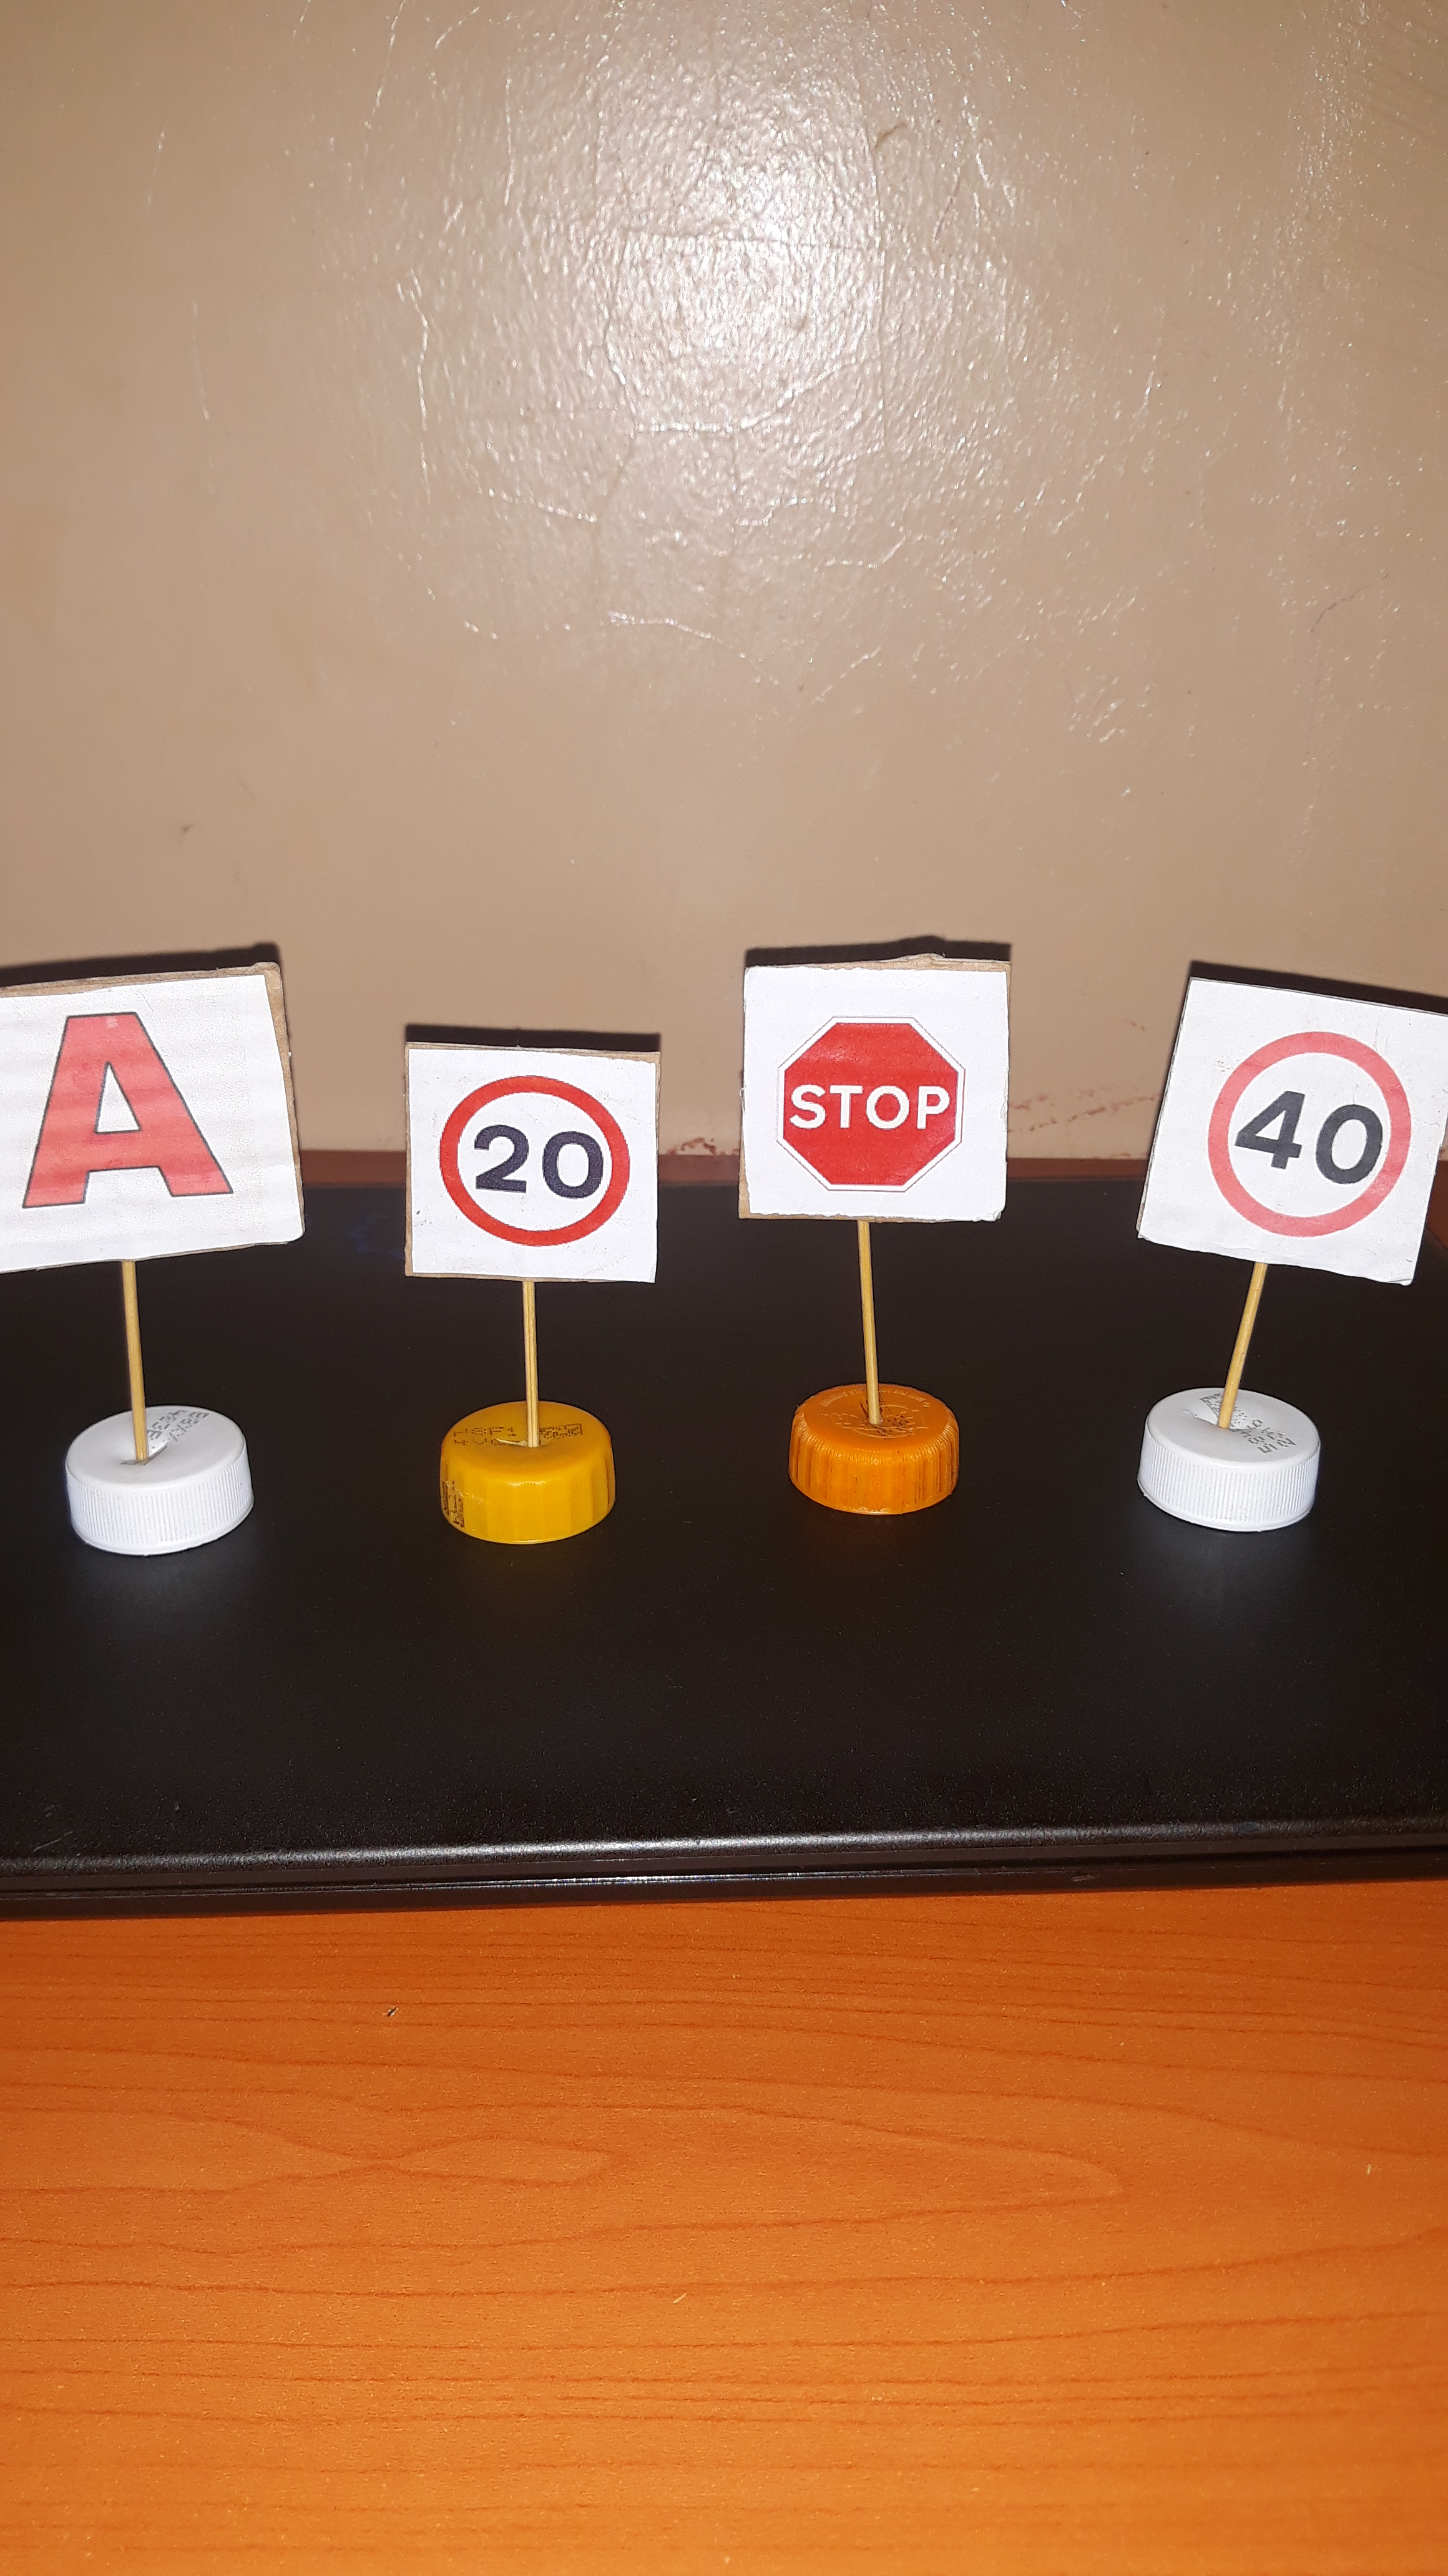20 kph: (434, 1053, 620, 1260)
40 kph: (1193, 994, 1416, 1272)
stop: (756, 994, 982, 1194)
zone A: (2, 977, 260, 1253)
